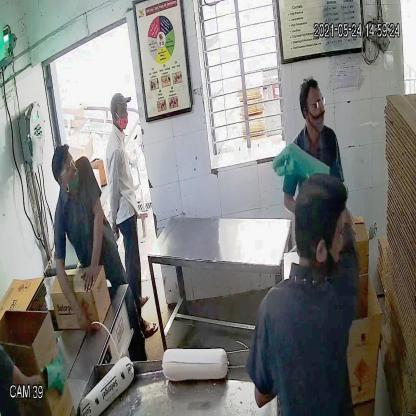goggles: (55, 155, 74, 183), (299, 96, 327, 113)
